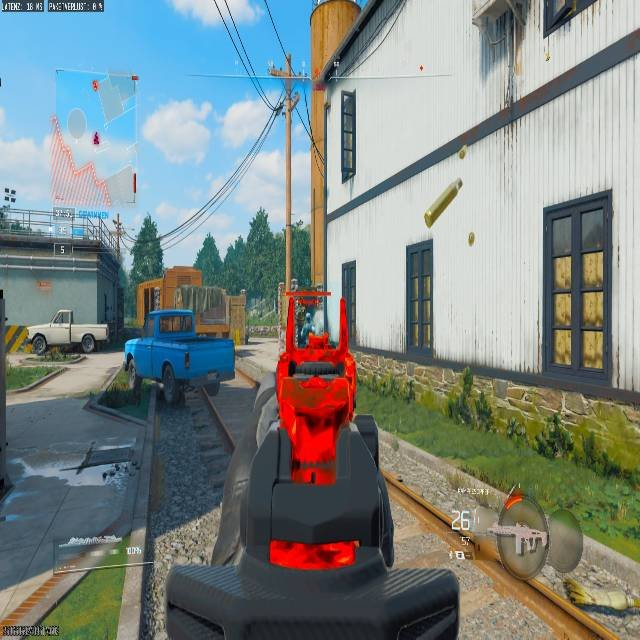player: (297, 306, 316, 348)
